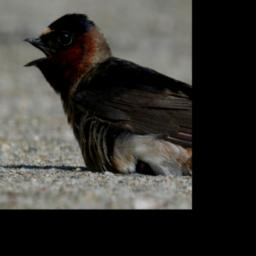Swallow: (21, 12, 192, 179)
